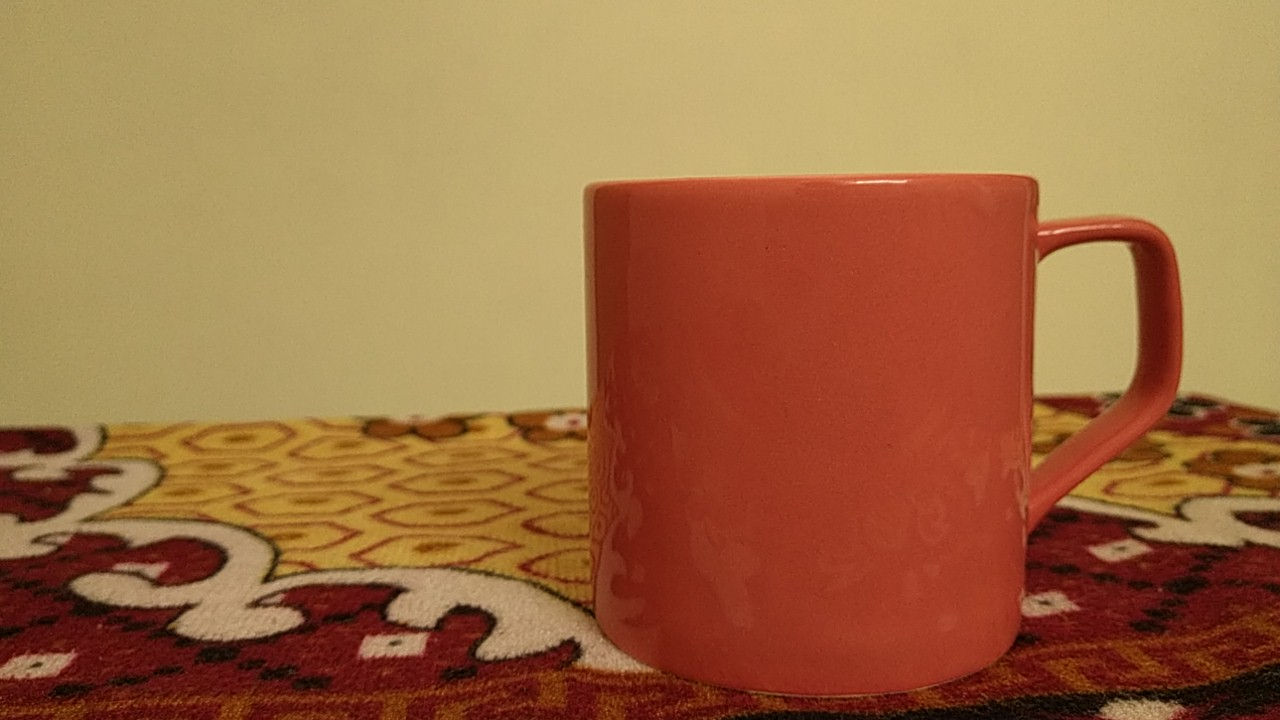cup: (566, 161, 1199, 711)
